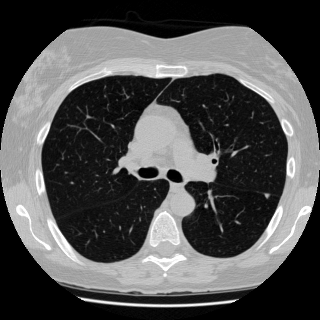nodule: (264, 193, 270, 199)
